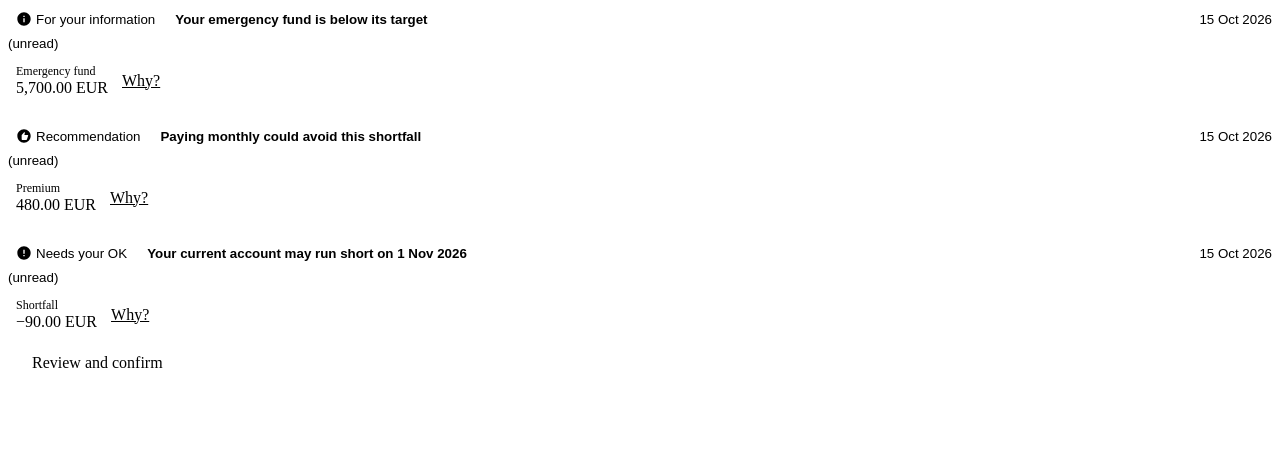
Test: NotificationListComponent › Review and confirm › shows the reason in the expanded item and the button only on items that need an OK
Click the button with class "summary" that starts with "Needs your OK" at (82, 253), box [8,242,1272,286]
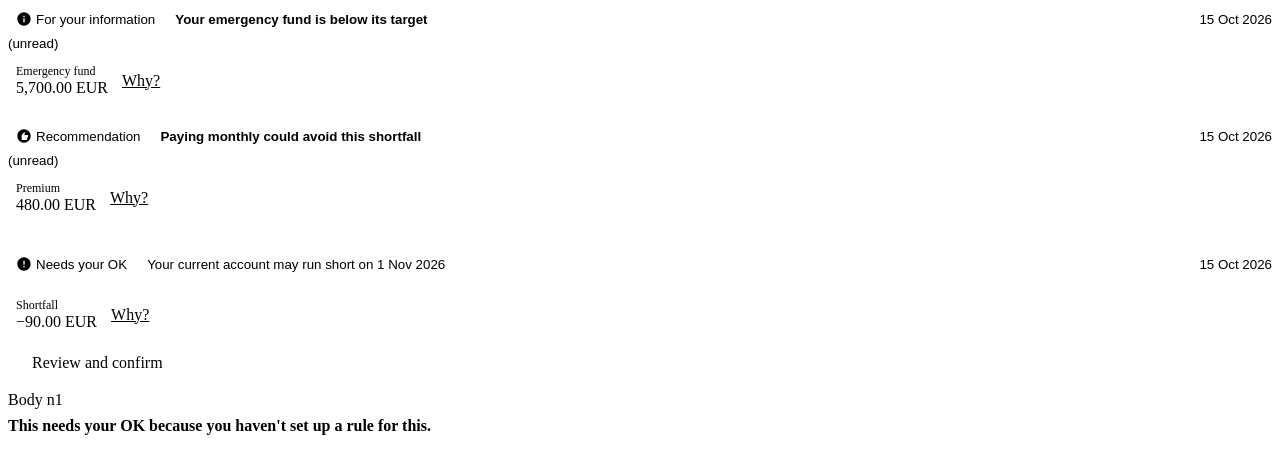
Expected: the text with class "reason" reads "This needs your OK because you haven't set up a rule for this.", [8,417,431,434]
